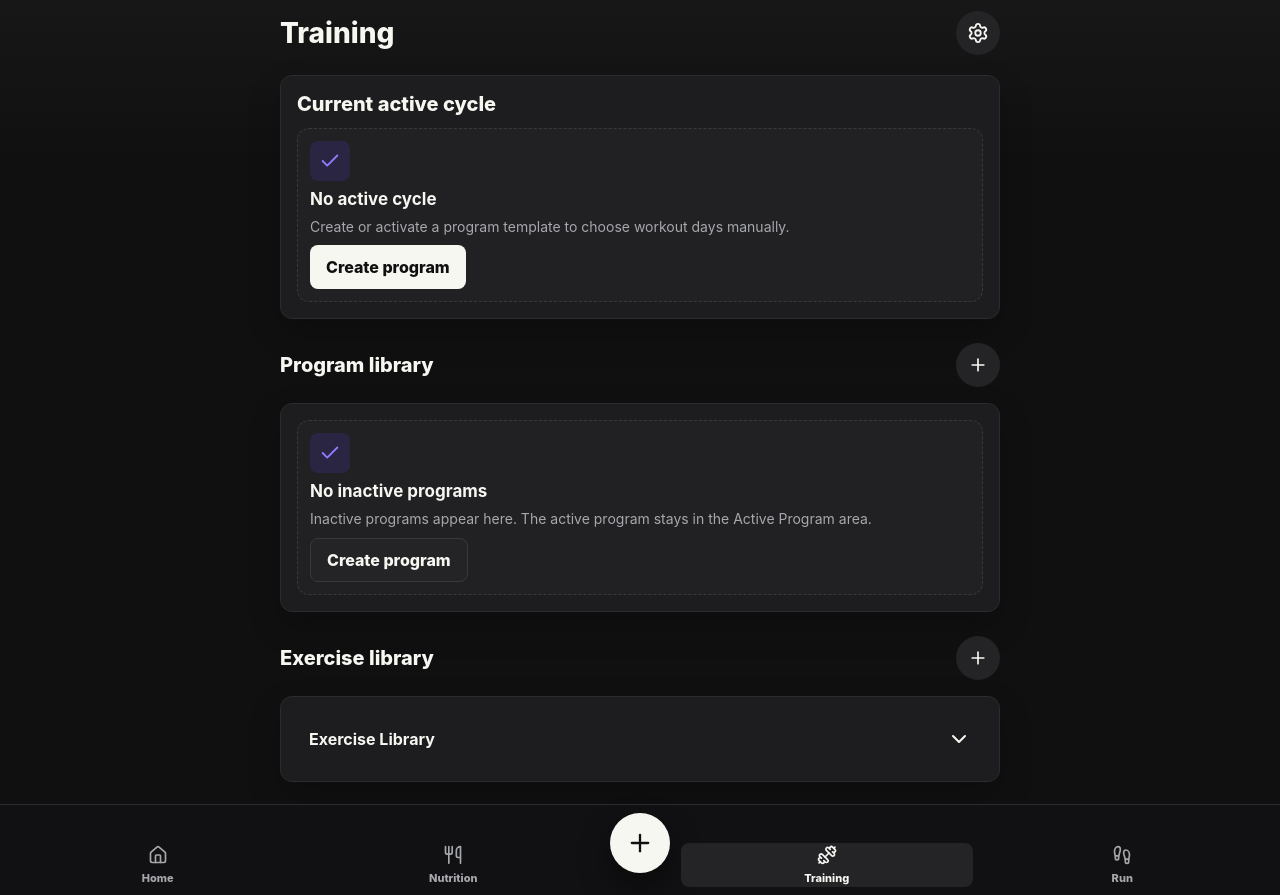
TrainingPage › hides and restores custom exercises without offering hide for built-ins
Click the button "Exercise Library": [372, 739] box [297,713,983,765]
(page scrolled)
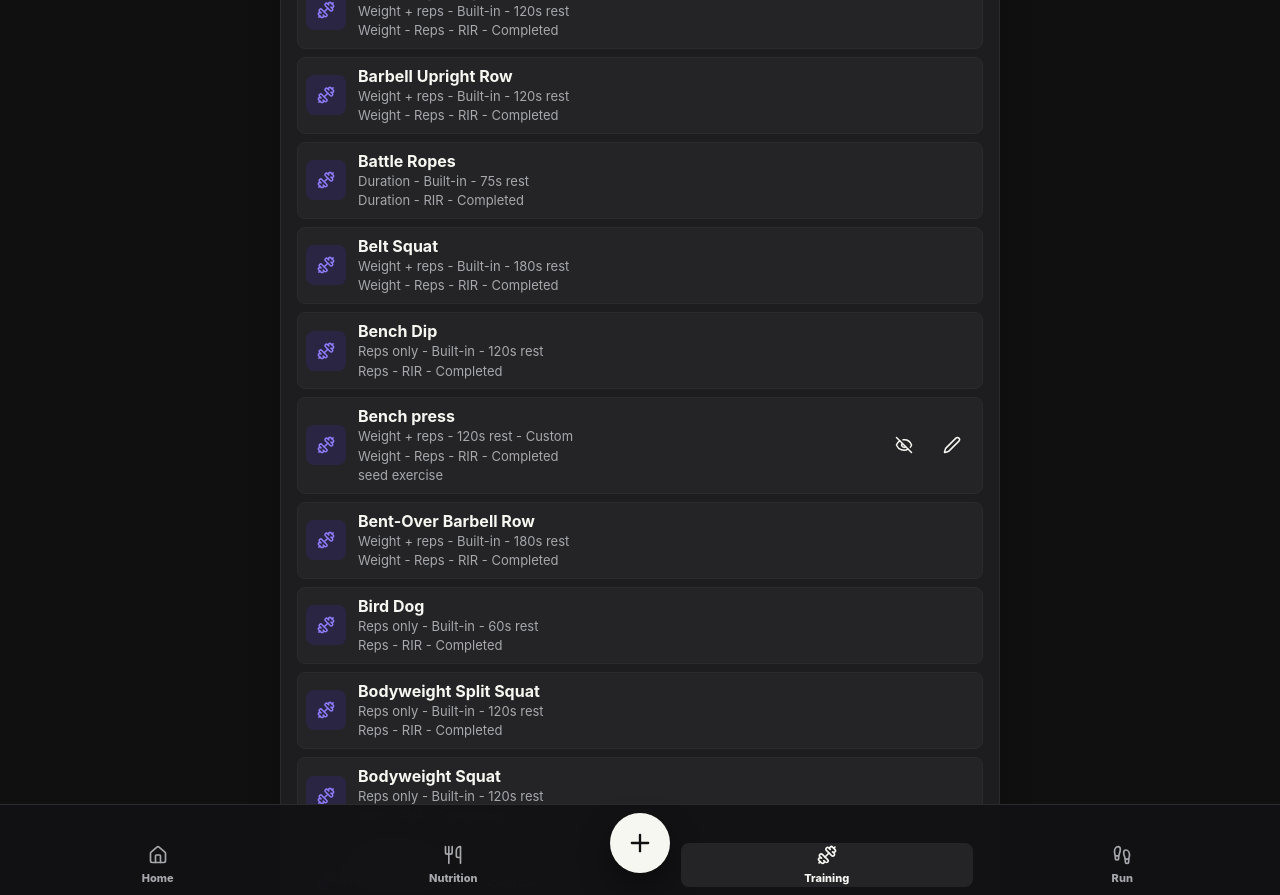
Click the button named "Hide Bench press": [904, 445] box [882,423,926,467]
(page scrolled)
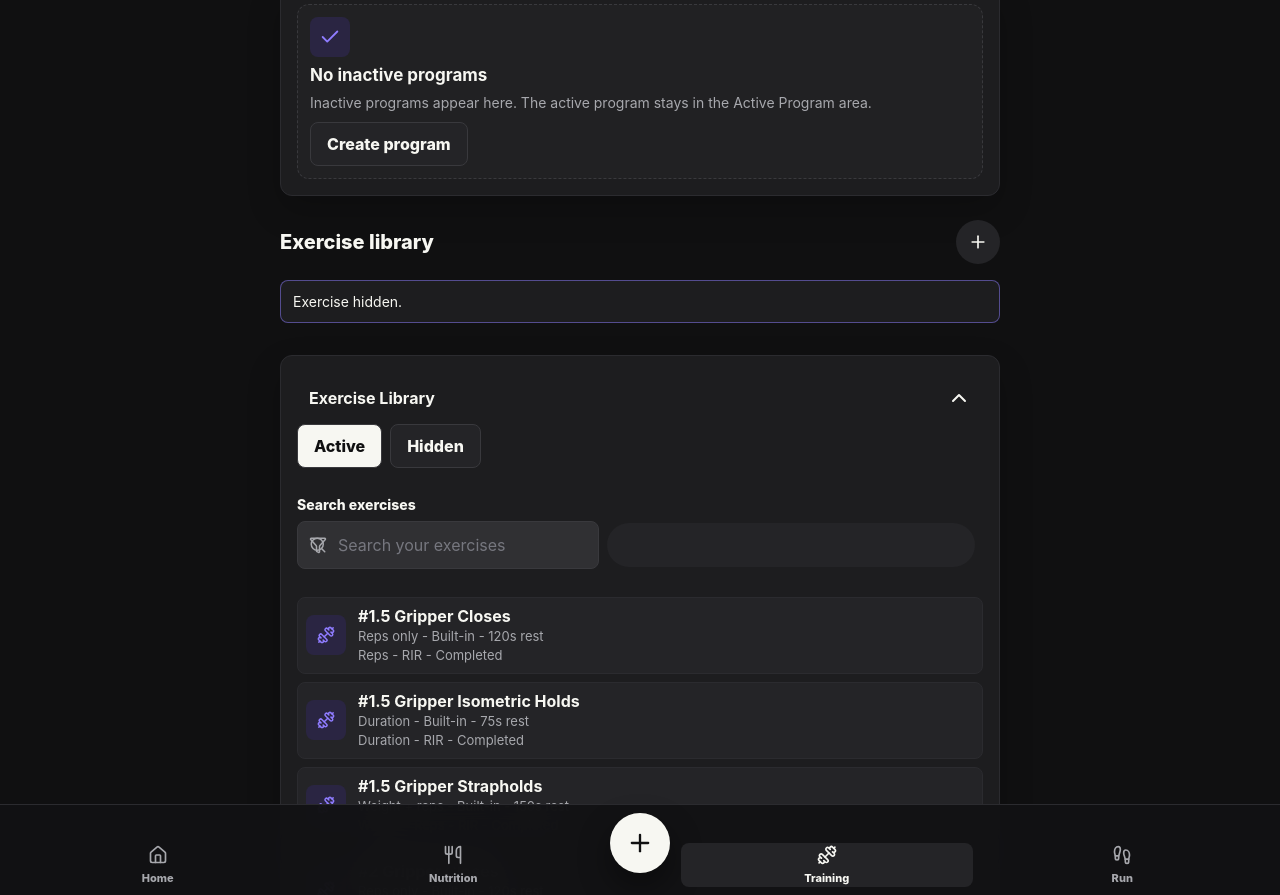
Expected: the text "Bench press" is not shown
Click the button "Hidden": [435, 446] box [390,424,481,468]
(page scrolled)
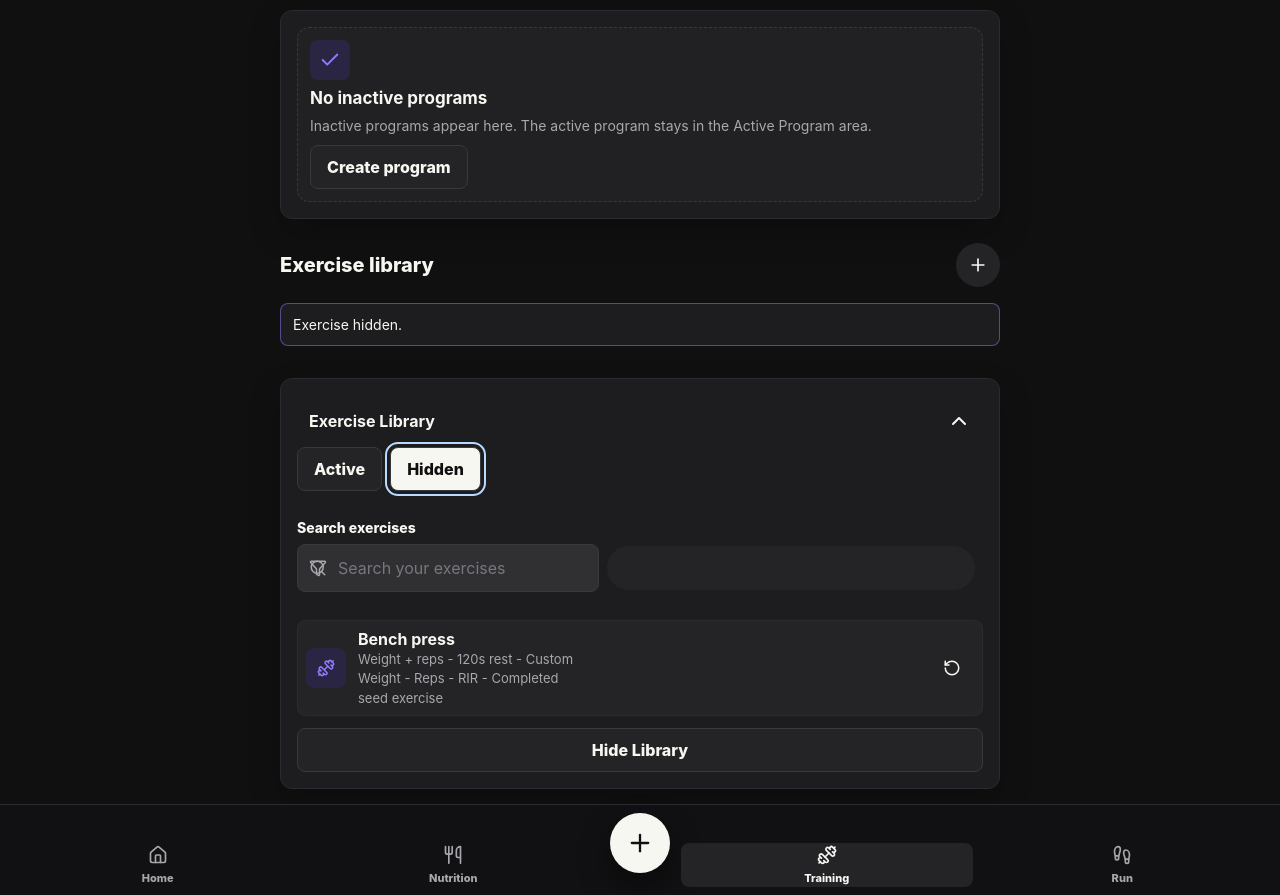
Now the button named "Restore Bench press" is shown
Click the button named "Restore Bench press": [952, 668] box [930,646,974,690]
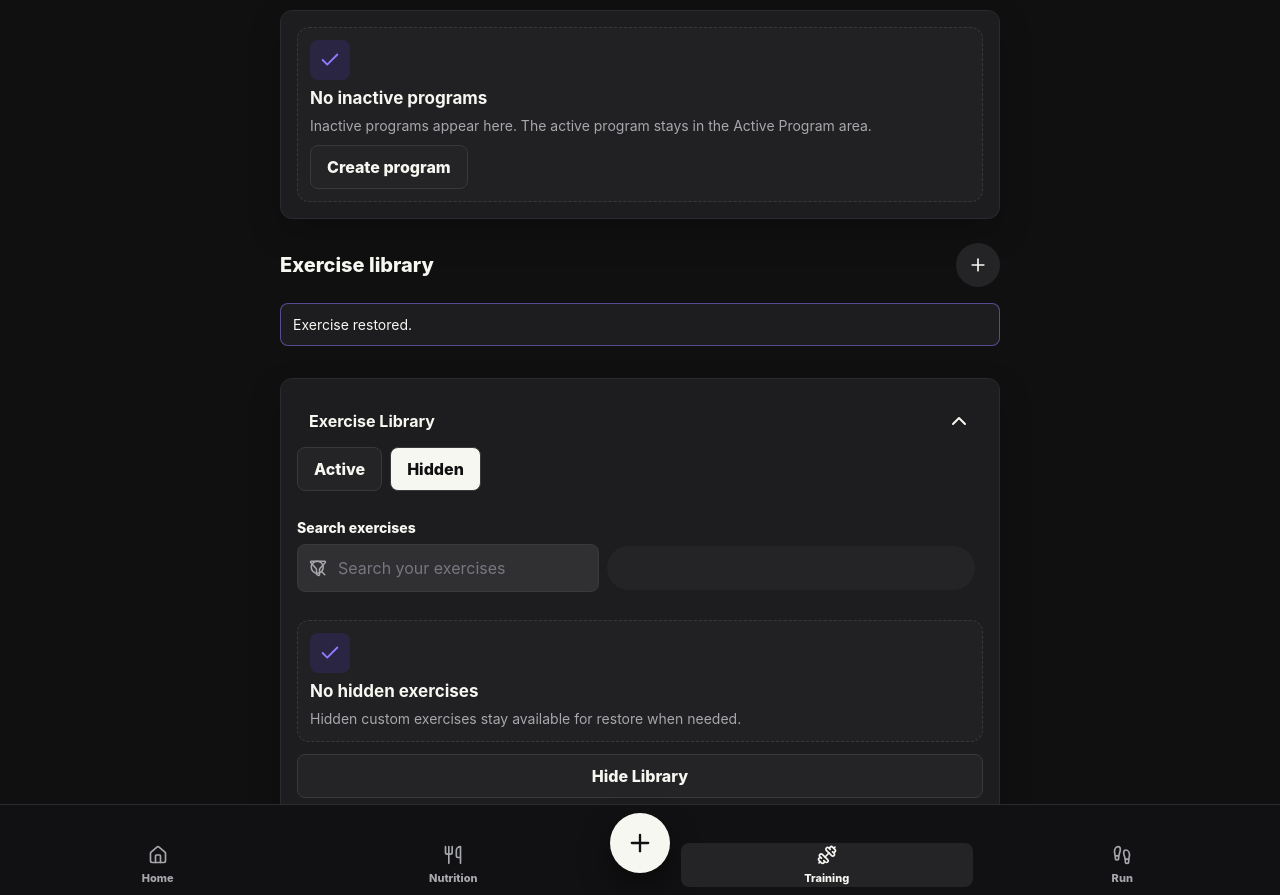
Click the button "Active": [340, 469] box [297,447,382,491]
(page scrolled)
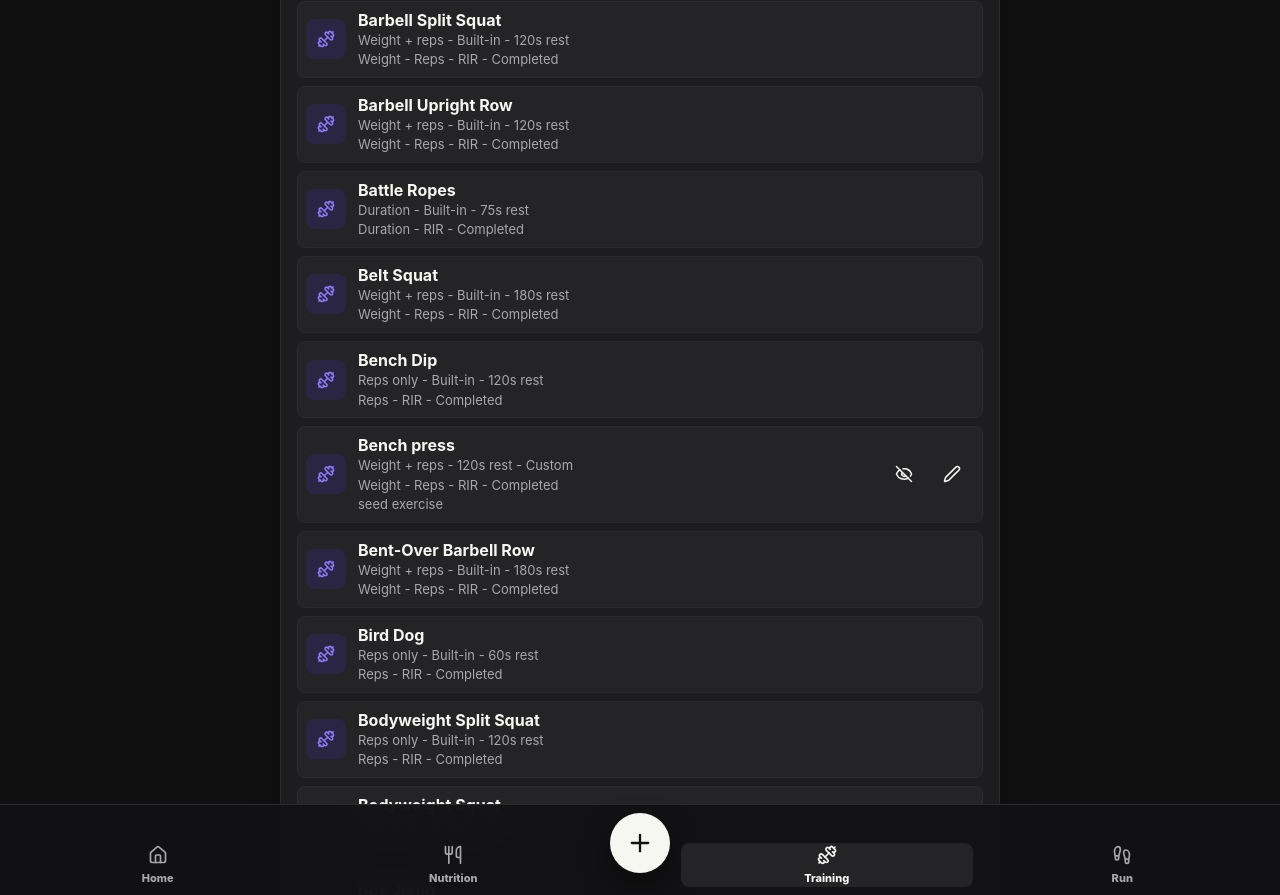
Now the text "Bench press" is shown, box [358,435,455,455]
